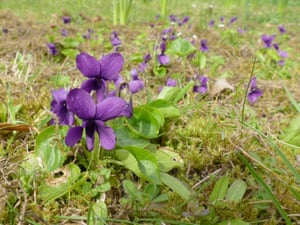violet: (62, 88, 127, 152), (76, 53, 125, 94)
